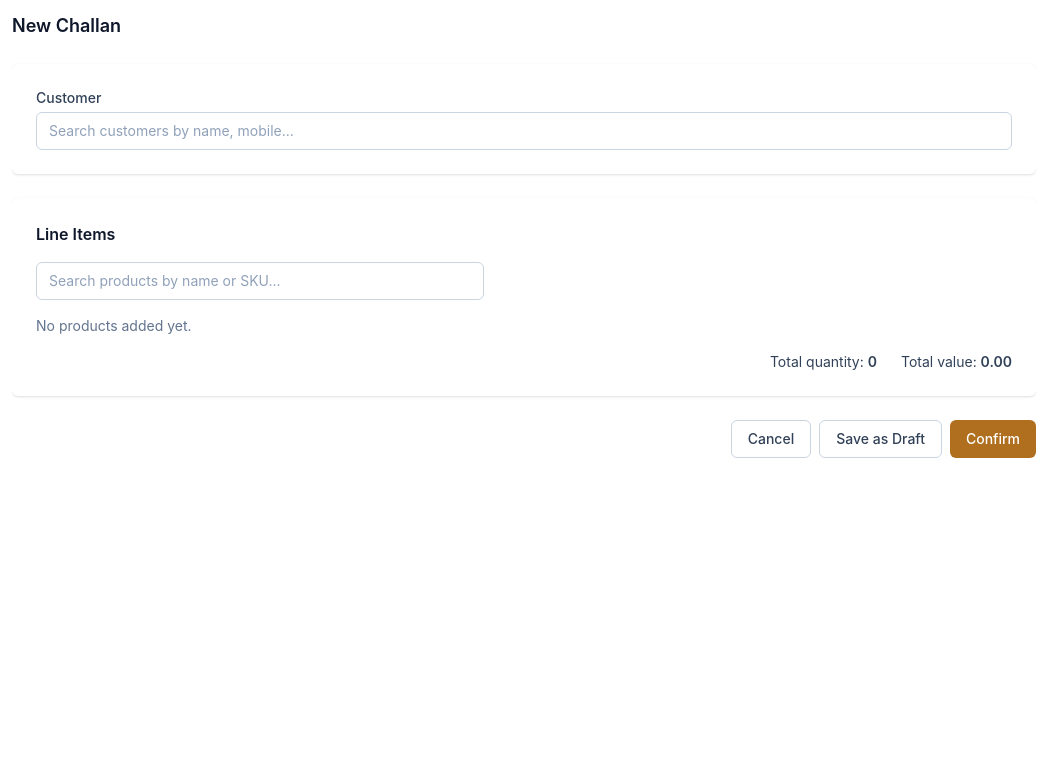
Test: ChallanBuilderPage › saves and confirms in one action on success
The image size is (1048, 780).
Type "Acme" into the search field labelled "customer" at x=524, y=131, box [36,112,1012,150]
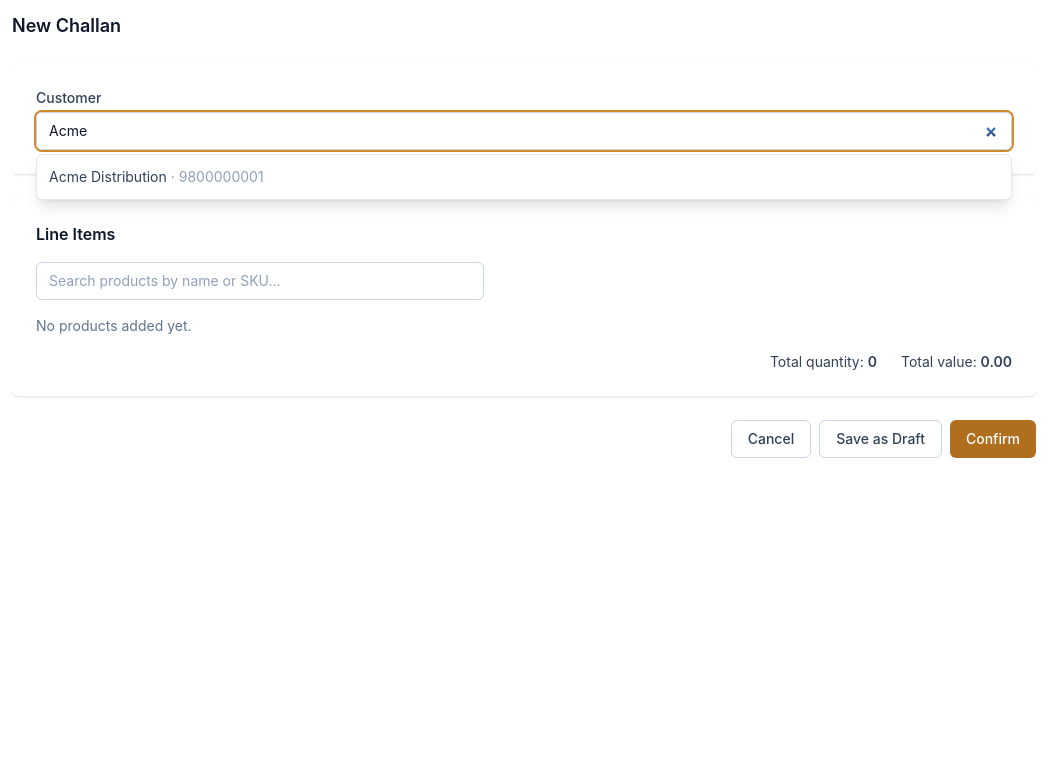
Check: the button "Acme Distribution· 9800000001" is shown
Click the button "Acme Distribution· 9800000001" at x=108, y=176, box [37,159,1011,195]
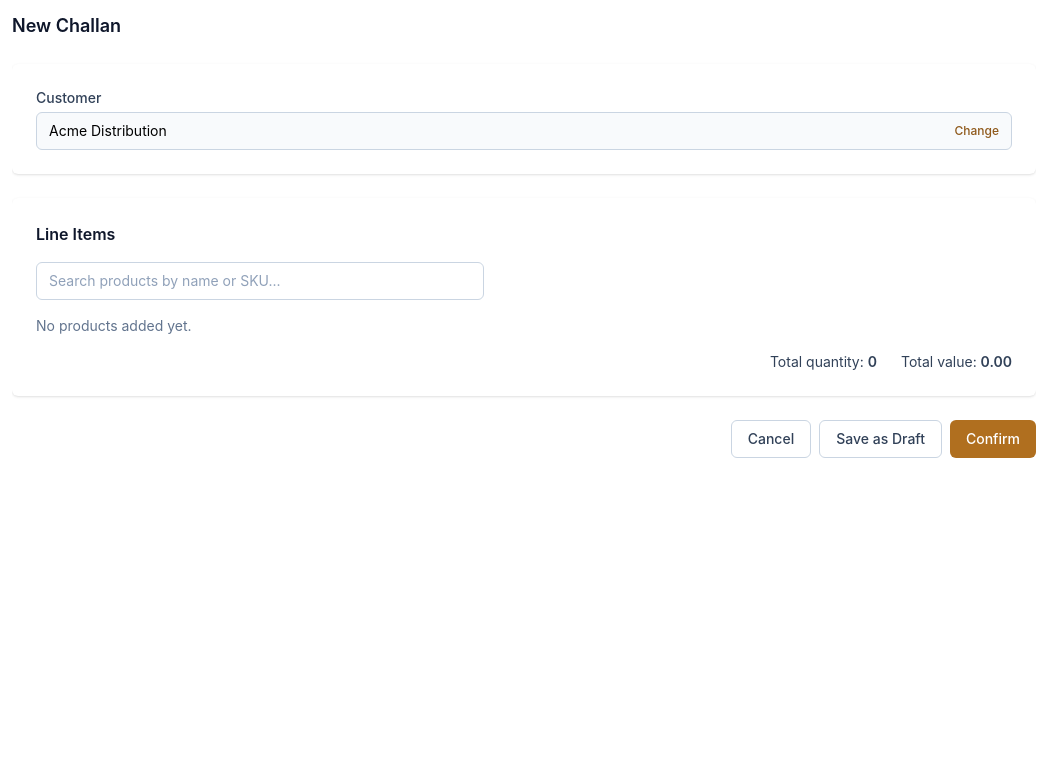
Type "Steel" into the search field named "Add product" at x=260, y=281, box [36,262,484,300]
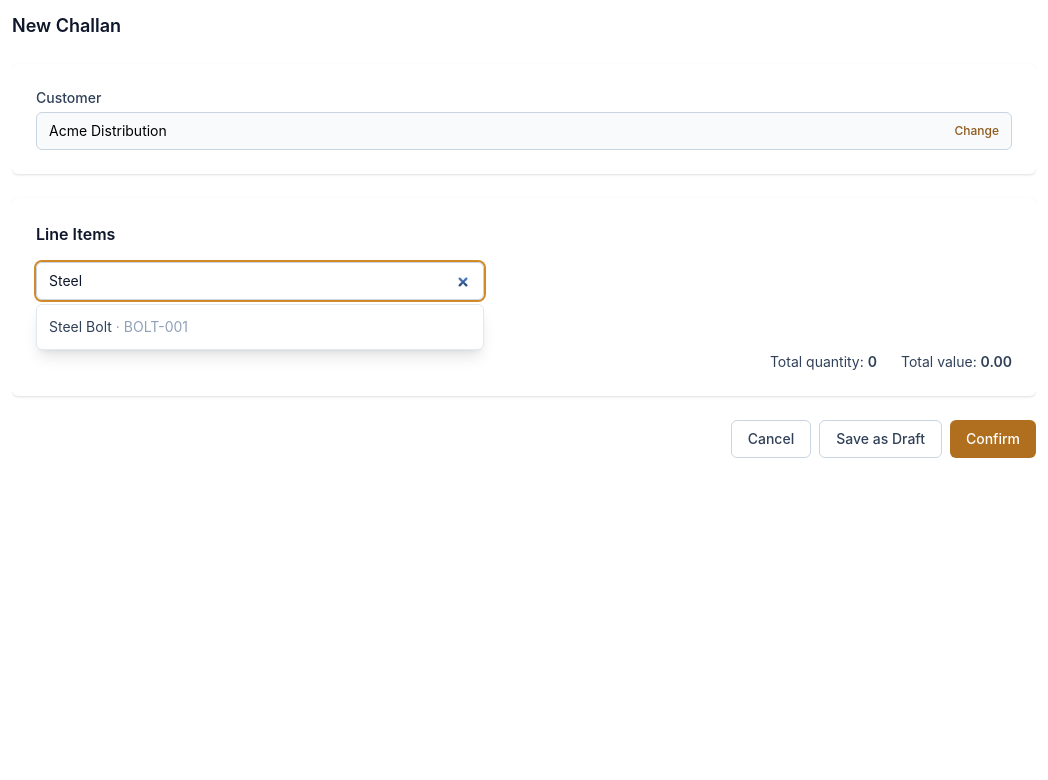
Check: the button "Steel Bolt· BOLT-001" is shown
Click the button "Steel Bolt· BOLT-001" at x=80, y=326, box [37,309,483,345]
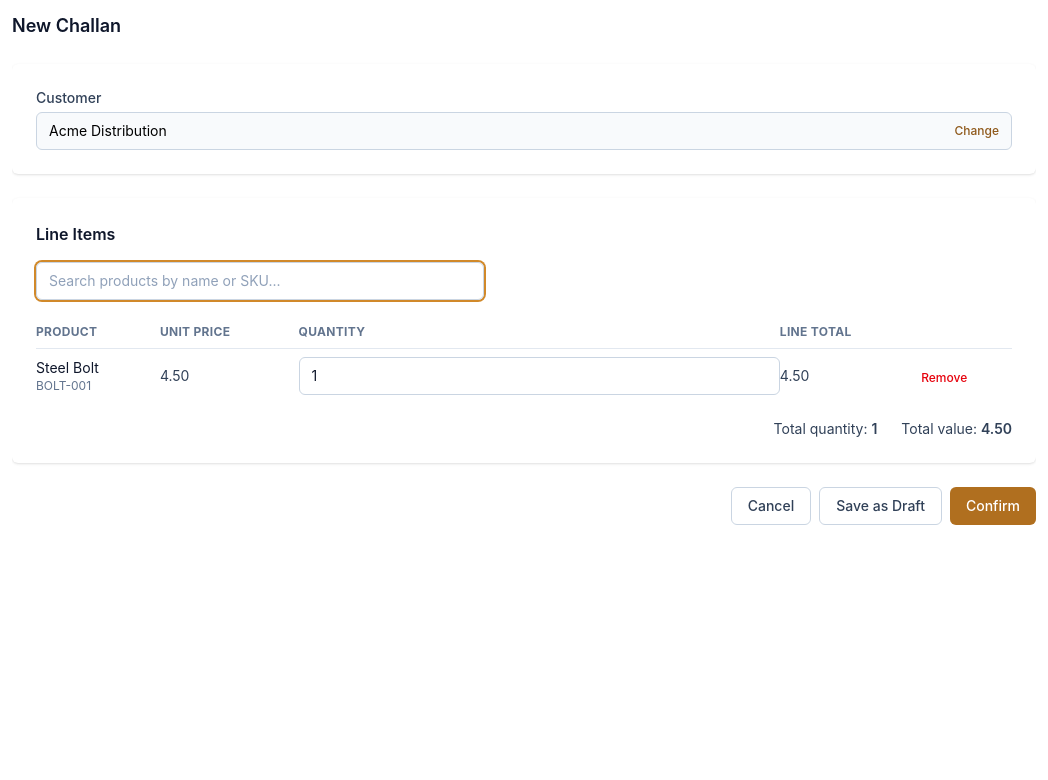
Click the button "Confirm" at x=993, y=506, box [950,487,1036,525]
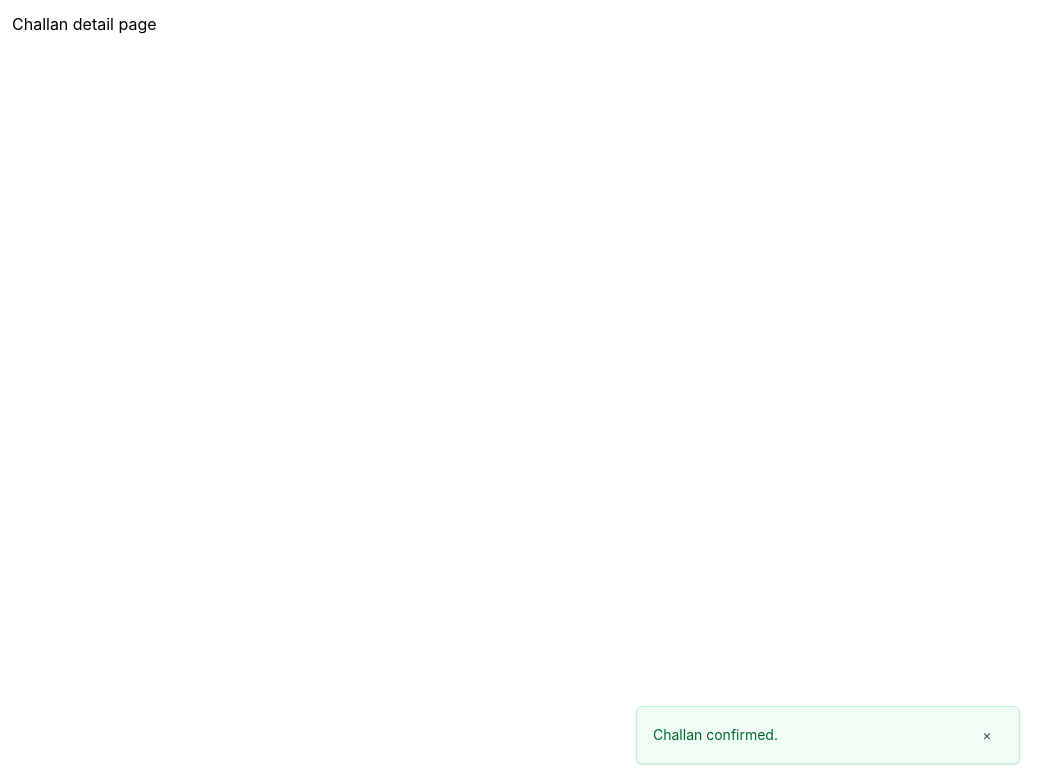
Check: the text "Challan detail page" is shown, box [12,14,157,34]
